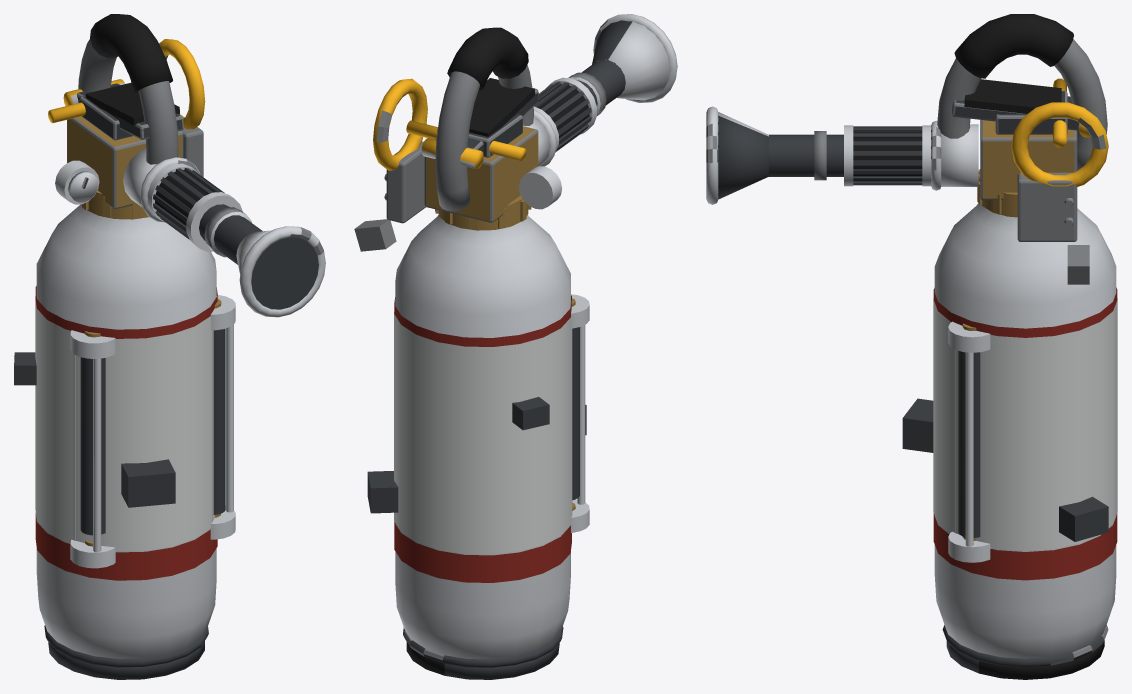
The model's file is portal_gun_spent.fbx.
The picture shows the model from 3 angles, left to right: view 1: azimuth 30°, elevation 25°; view 2: azimuth 150°, elevation 25°; view 3: azimuth 270°, elevation 25°; orthographic projection. The views are drawn at different scales.
Parts seen in each view (by area): view 1: Mesh_PortalGun_Spent; view 2: Mesh_PortalGun_Spent; view 3: Mesh_PortalGun_Spent.
Boxes of the visible parts, x1,y1,x2,y2 form: Mesh_PortalGun_Spent: [14, 14, 325, 679]; Mesh_PortalGun_Spent: [354, 14, 677, 679]; Mesh_PortalGun_Spent: [706, 14, 1117, 679].
Bounding box in the file's own units: 14.08 × 44.45 × 26.29.
